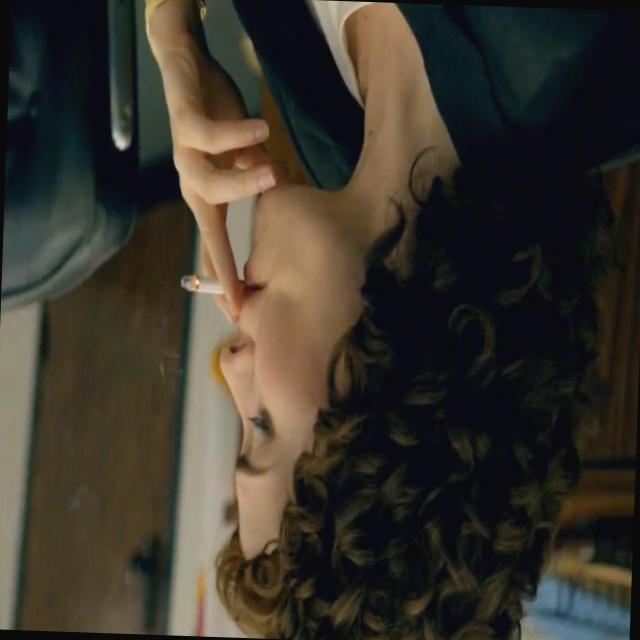cigarette: (165, 260, 258, 312)
